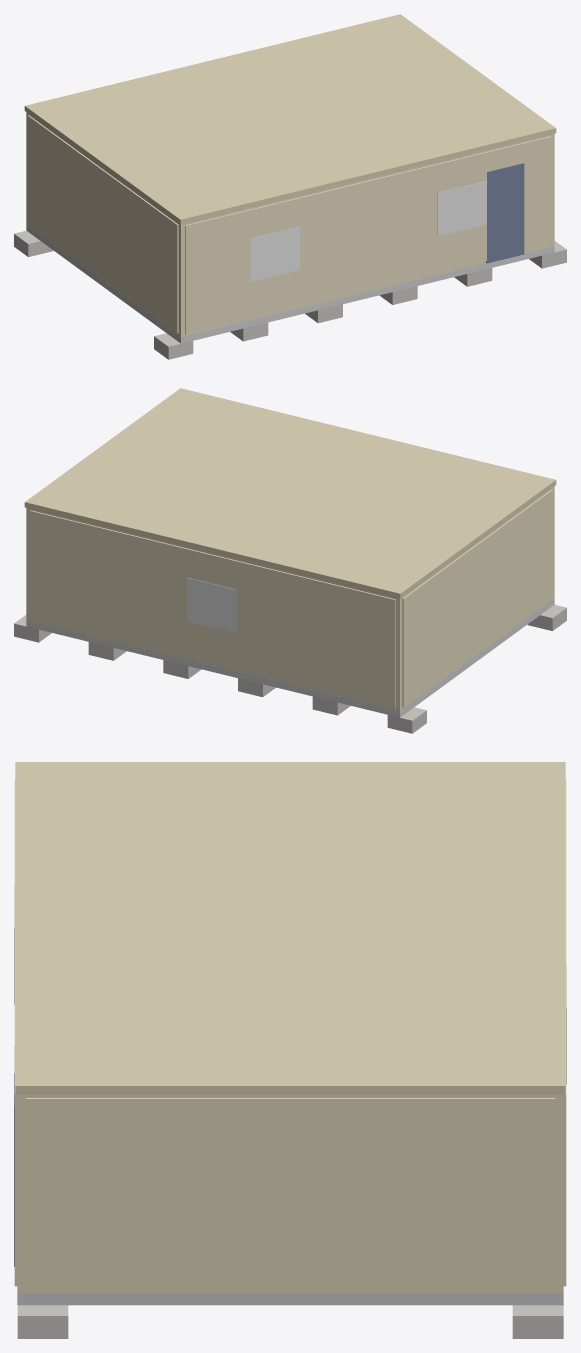
Rendered from Studio-30-Base-MicroGrainYellowSlate-LOD2.glb.
3 renders of one model, top to bottom at view 1: azimuth 30°, elevation 25°; view 2: azimuth 150°, elevation 25°; view 3: azimuth 270°, elevation 25°, orthographic. The views are drawn at different scales.
Visible parts, largest first — view 1: RoofMain, ExteriorPanelsStandard, WindowsStandard, BaseFrame, FoundationBlocks, ExteriorShell, EntryDoor; view 2: RoofMain, ExteriorPanelsStandard, BaseFrame, ExteriorShell, FoundationBlocks, WindowsStandard; view 3: RoofMain, ExteriorPanelsStandard, BaseFrame, ExteriorShell, FoundationBlocks.
Boxes of the visible parts, x1=… form: RoofMain: x1=24, y1=14, x2=556, y2=224; ExteriorPanelsStandard: x1=27, y1=115, x2=550, y2=334; WindowsStandard: x1=250, y1=181, x2=486, y2=281; BaseFrame: x1=26, y1=224, x2=554, y2=343; FoundationBlocks: x1=14, y1=230, x2=566, y2=359; ExteriorShell: x1=26, y1=112, x2=554, y2=336; EntryDoor: x1=486, y1=163, x2=524, y2=263; RoofMain: x1=24, y1=388, x2=556, y2=598; ExteriorPanelsStandard: x1=30, y1=489, x2=553, y2=708; BaseFrame: x1=26, y1=598, x2=554, y2=717; ExteriorShell: x1=26, y1=486, x2=554, y2=710; FoundationBlocks: x1=14, y1=604, x2=566, y2=733; WindowsStandard: x1=187, y1=577, x2=237, y2=633; RoofMain: x1=15, y1=762, x2=565, y2=1094; ExteriorPanelsStandard: x1=14, y1=779, x2=566, y2=1290; BaseFrame: x1=17, y1=1293, x2=563, y2=1305; ExteriorShell: x1=17, y1=1095, x2=563, y2=1293; FoundationBlocks: x1=17, y1=1305, x2=563, y2=1338.
Bounding box in the file's own units: 9.6 × 3.17 × 6.53.
